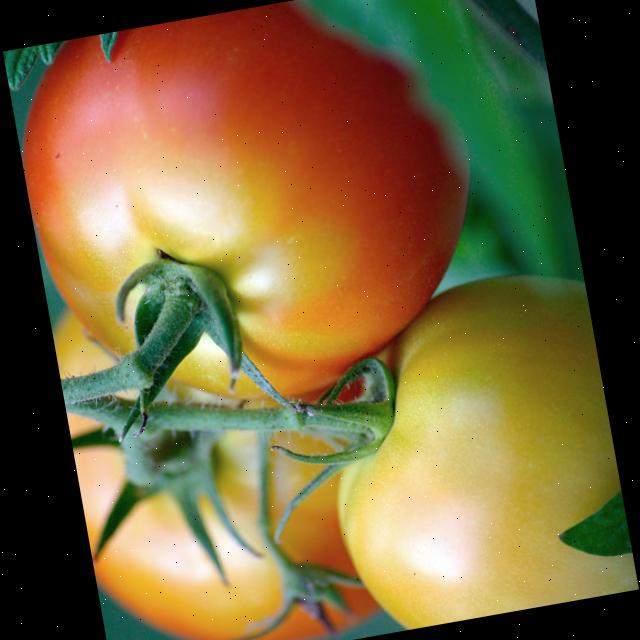tomato: (10, 0, 511, 430), (48, 223, 393, 640), (314, 262, 636, 636)
